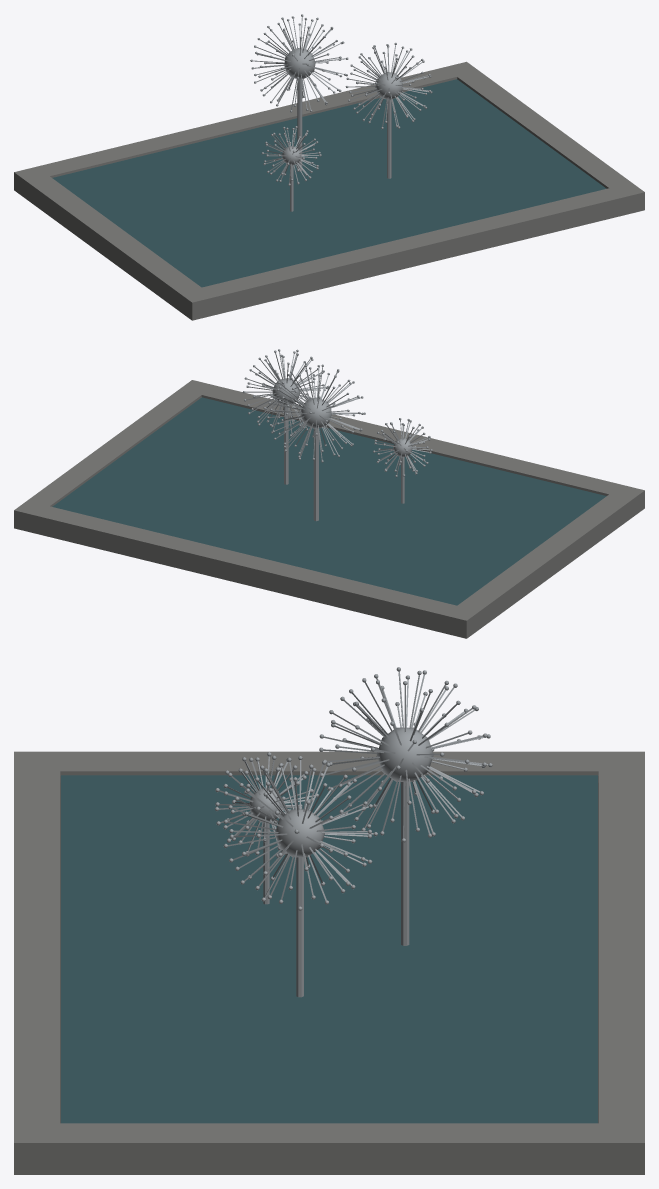
File: mon_pusteblumen.glb
3 renders of one model, top to bottom at view 1: azimuth 30°, elevation 25°; view 2: azimuth 150°, elevation 25°; view 3: azimuth 270°, elevation 25°, orthographic. The views are drawn at different scales.
Parts seen in each view (by area): view 1: mon_pusteblumen; view 2: mon_pusteblumen; view 3: mon_pusteblumen.
Boxes of the visible parts, x1,y1,x2,y2 form: mon_pusteblumen: [14, 14, 644, 320]; mon_pusteblumen: [14, 349, 644, 638]; mon_pusteblumen: [14, 667, 644, 1174].
Size of the model in its own units: 11 by 3.89 by 7.5.
